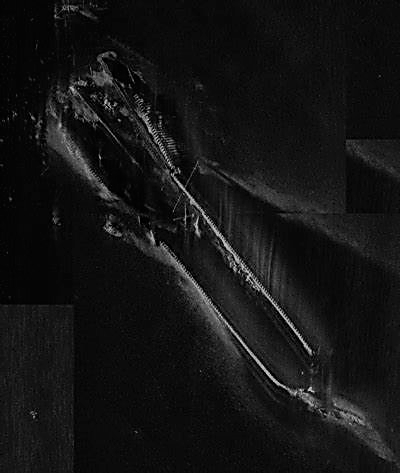ship: (59, 50, 329, 408)
